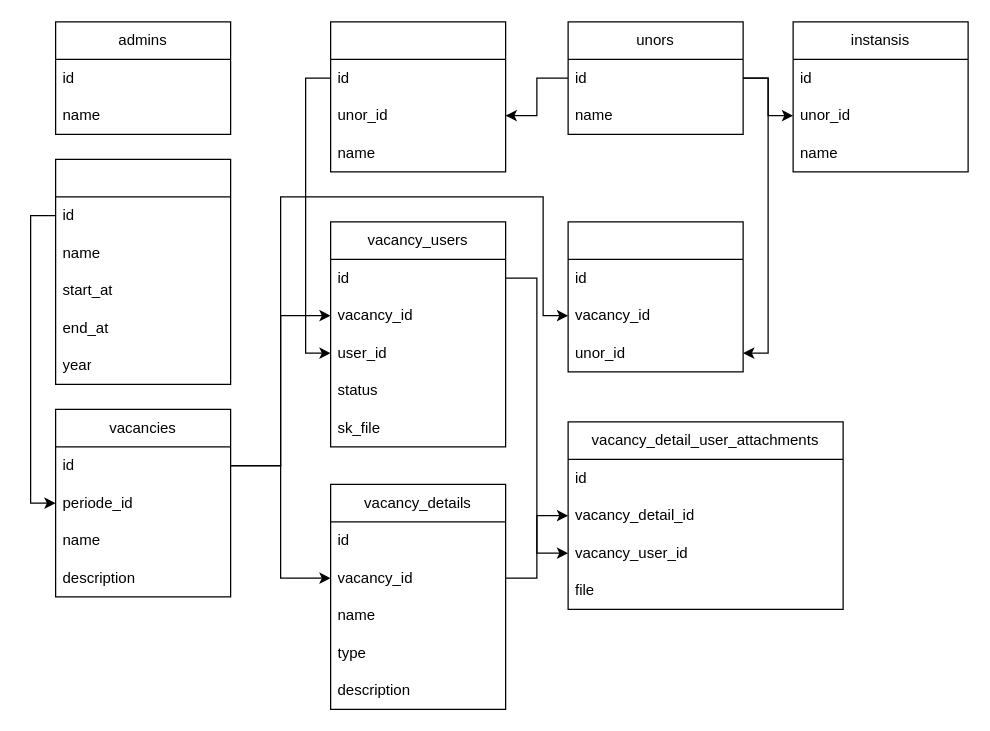
Image size: 990x731. Some labels were removed from this diagram. Each missing label, with the box of its shape:
periods: (54, 158, 231, 384)
users: (329, 21, 506, 172)
vacancy_unors: (567, 221, 743, 372)
